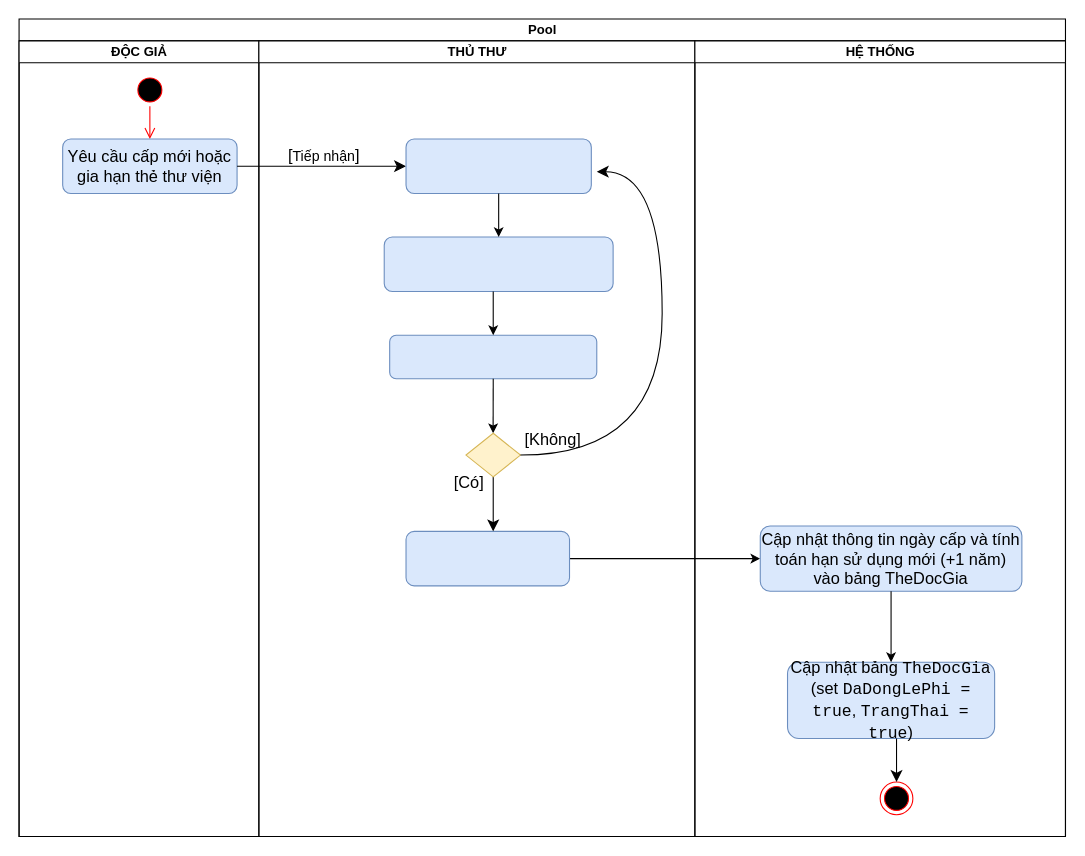
Image size: 1085x856. Some labels were removed from this diagram. Each missing label, with the centre of its shape:
Thu tiền lệ phí đóng theo năm: the point at 498,264
Xác nhận thanh toán và gửi yêu cầu: the point at 487,558
Yêu cầu và kiểm tra thông tin nhân thân (hồ sơ, ảnh 3x4): the point at 498,165
Đóng lệ phí thành công?: the point at 493,356
